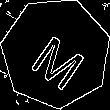M_NE: (23, 19, 89, 87)
